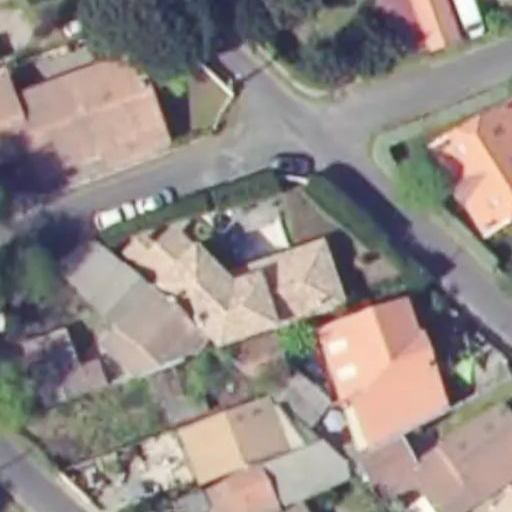pool: (229, 237, 281, 247)
